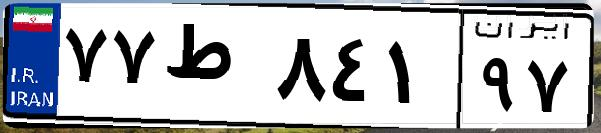1: (385, 28, 445, 110)
4: (330, 28, 385, 110)
7: (57, 26, 110, 100), (525, 38, 570, 115), (110, 28, 158, 98)
8: (270, 28, 330, 110)
9: (475, 38, 525, 113)
ط: (158, 20, 270, 120)
